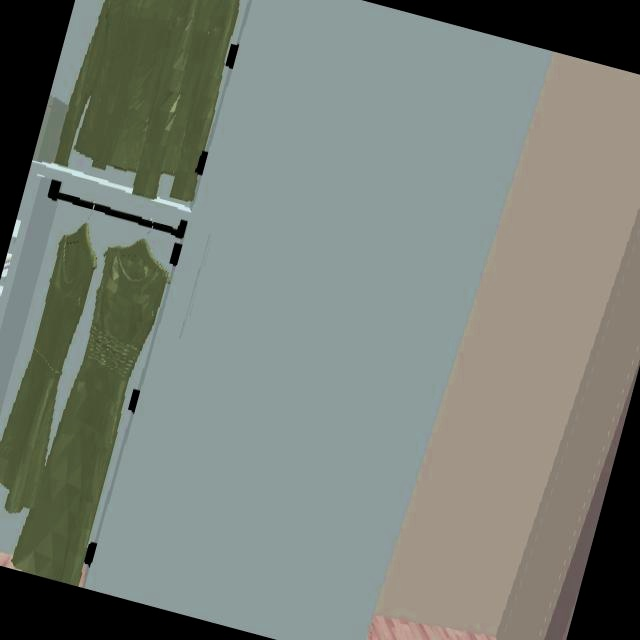wardrobe: (0, 0, 555, 640)
